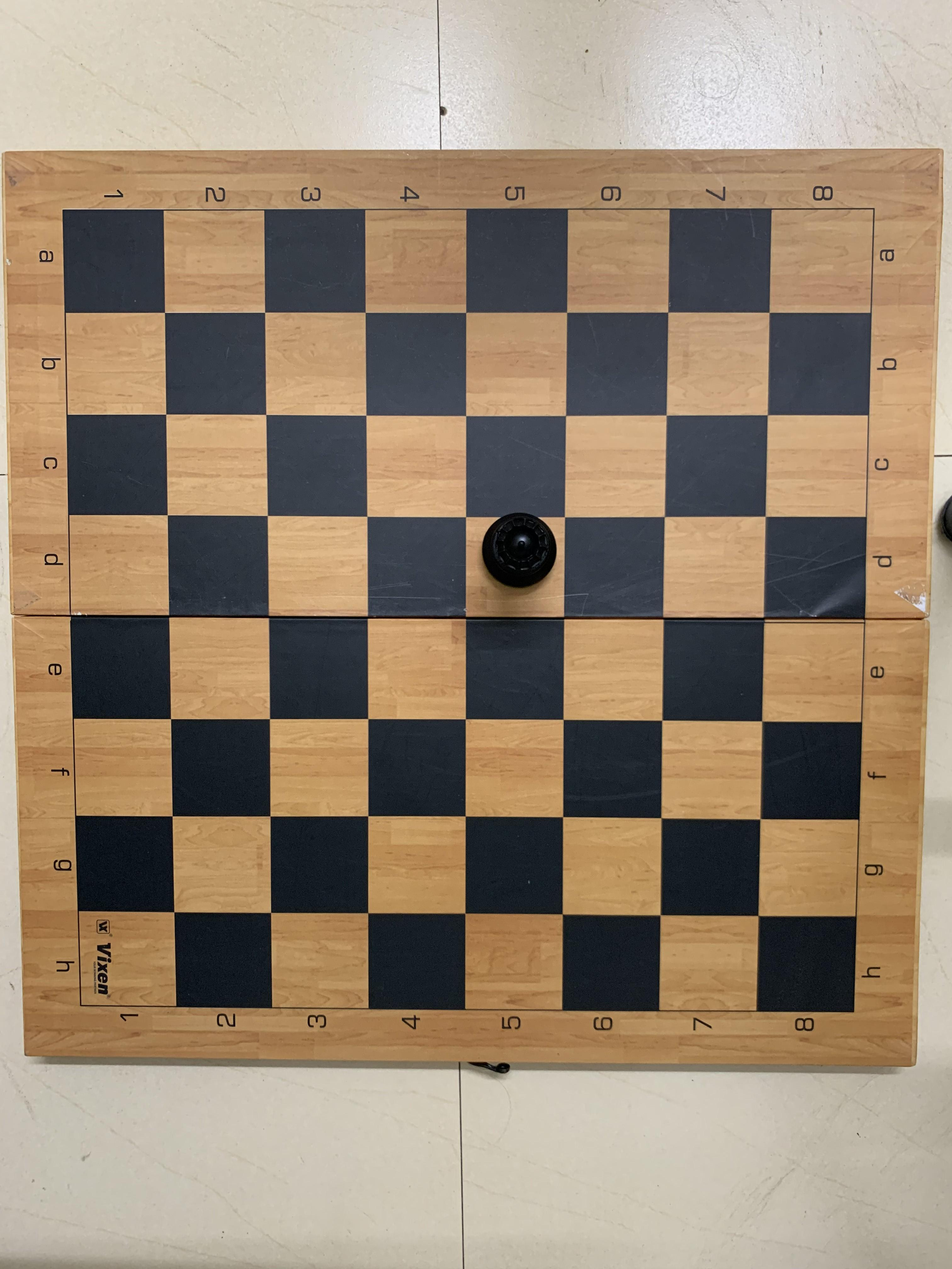black_queen: (466, 512, 566, 616)
